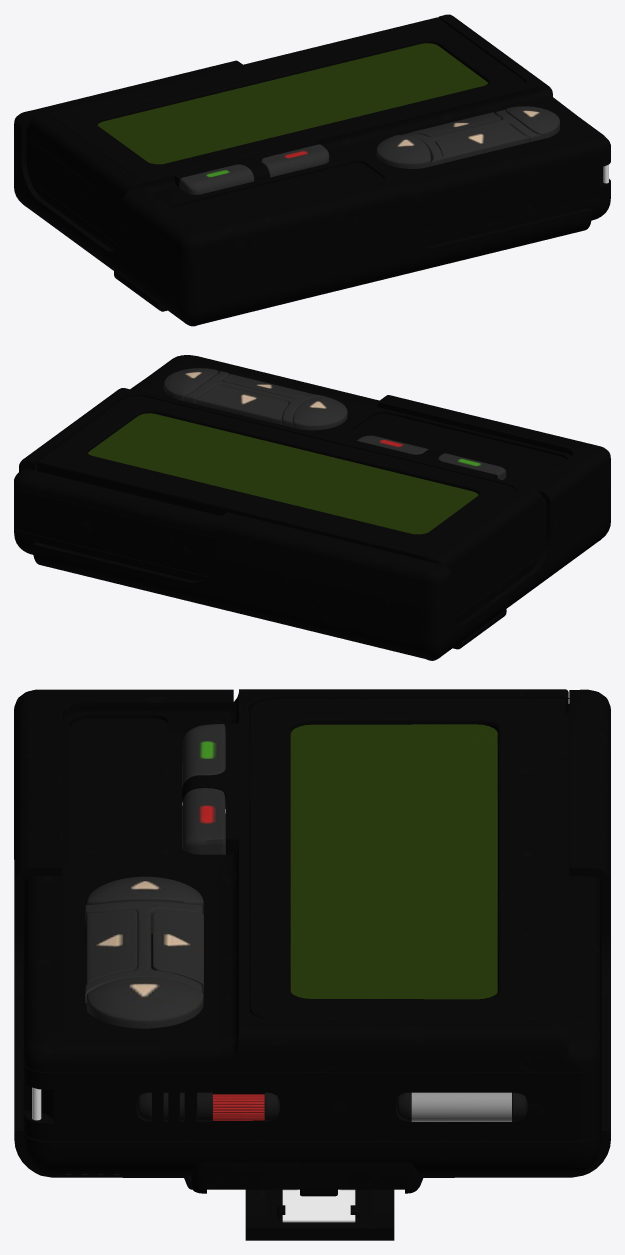
Rendered from motorola_advisor.glb.
3 views of the same model, one above another, from view 1: azimuth 30°, elevation 25°; view 2: azimuth 150°, elevation 25°; view 3: azimuth 270°, elevation 25° (orthographic). The views are drawn at different scales.
Visible parts, largest first — view 1: Plane_7, Plane_1, Plane_6_1, Plane_6, Plane_2, Subdivision_Surface_1_2, Plane_3, Plane_4_2; view 2: Plane_7, Plane_1, Plane_6, Plane_6_1, Plane_2, Subdivision_Surface_1_2, Plane_3, Plane_4_2; view 3: Plane_1, Plane_6_1, Plane_6, Plane_2, Plane_7, Subdivision_Surface_1_2, Plane_3, Plane_002, Cylinder_013, Cylinder_037_1, Cylinder_037, Extrude.
Part boxes in pixels (<box>): Plane_7: <box>14,60,591,326</box>; Plane_1: <box>26,14,610,222</box>; Plane_6_1: <box>97,43,487,164</box>; Plane_6: <box>47,17,526,178</box>; Plane_2: <box>26,137,610,244</box>; Subdivision_Surface_1_2: <box>179,106,560,194</box>; Plane_3: <box>31,161,610,245</box>; Plane_4_2: <box>41,189,118,250</box>; Plane_7: <box>33,395,610,660</box>; Plane_1: <box>14,355,571,578</box>; Plane_6: <box>28,395,516,561</box>; Plane_6_1: <box>88,413,478,534</box>; Plane_2: <box>14,468,545,617</box>; Subdivision_Surface_1_2: <box>164,368,506,480</box>; Plane_3: <box>14,527,455,621</box>; Plane_4_2: <box>456,554,541,623</box>; Plane_1: <box>24,689,600,1072</box>; Plane_6_1: <box>290,724,497,999</box>; Plane_6: <box>248,698,569,1031</box>; Plane_2: <box>24,744,600,1140</box>; Plane_7: <box>14,689,610,1189</box>; Subdivision_Surface_1_2: <box>85,724,225,1028</box>; Plane_3: <box>24,934,600,1176</box>; Plane_002: <box>191,1162,418,1193</box>; Cylinder_013: <box>245,1189,394,1240</box>; Cylinder_037_1: <box>212,1092,511,1121</box>; Cylinder_037: <box>136,1092,527,1121</box>; Extrude: <box>282,1189,355,1222</box>.
Size of the model in its own units: 0.0905 by 0.0272 by 0.0631.
2 materials, 2 textured.
